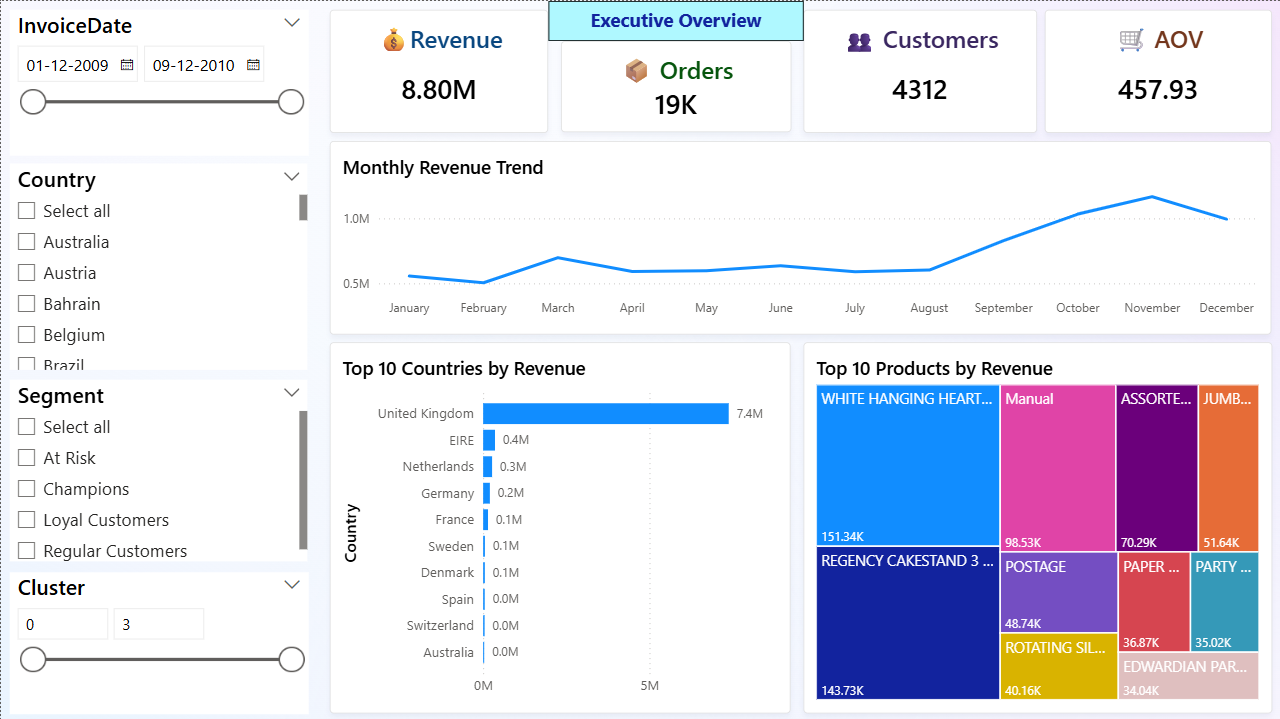

Layout of this report page (visuals, bound fields, positions):
{"tool":"powerbi","page":{"name":"Executive Overview","canvas":[1280,720],"ordinal":0},"visuals":[{"type":"lineChart","title":"Monthly Revenue Trend","fields":{"Category":["cleaned_online_retail.InvoiceDate.Variation.Date Hierarchy.Year","cleaned_online_retail.InvoiceDate.Variation.Date Hierarchy.Quarter","cleaned_online_retail.InvoiceDate.Variation.Date Hierarchy.Month","cleaned_online_retail.InvoiceDate.Variation.Date Hierarchy.Day"],"Y":["Sum(cleaned_online_retail.Revenue)"]},"box":[329.2,139.6,941.7,193.8],"z":0},{"type":"card","title":"💰Revenue","fields":{"Values":["cleaned_online_retail.Total Revenue"]},"box":[329.2,8.3,218.8,122.9],"z":1000},{"type":"card","title":"📦 Orders","fields":{"Values":["cleaned_online_retail.Total Orders"]},"box":[560,40,230,91.2],"z":2000},{"type":"card","title":"👥 Customers","fields":{"Values":["cleaned_online_retail.Total Customers"]},"box":[802.1,8.3,233.3,122.9],"z":3000},{"type":"card","title":"🛒 AOV","fields":{"Values":["cleaned_online_retail.Average Order Value"]},"box":[1043.8,8.3,227.1,122.9],"z":4000},{"type":"clusteredBarChart","title":"Top 10 Countries by Revenue","fields":{"Category":["cleaned_online_retail.Country"],"Y":["Sum(cleaned_online_retail.Revenue)"]},"box":[329.2,341.7,460.4,370.8],"z":5000},{"type":"treemap","title":"Top 10 Products by Revenue","fields":{"Group":["cleaned_online_retail.Description"],"Values":["Sum(cleaned_online_retail.Revenue)"]},"box":[802.1,341.7,468.8,370.8],"z":6000},{"type":"slicer","fields":{"Values":["cleaned_online_retail.InvoiceDate"]},"box":[8.1,8.1,298.1,145.6],"z":7000},{"type":"slicer","fields":{"Values":["cleaned_online_retail.Country"]},"box":[8.3,162.5,297.9,206.2],"z":8000},{"type":"slicer","fields":{"Values":["customer_segments.Segment"]},"box":[8.3,379.2,297.9,181.2],"z":9000},{"type":"slicer","fields":{"Values":["customer_segments.Cluster"]},"box":[8.1,570.6,298.1,141.9],"z":10000},{"type":"textbox","box":[547.5,0,255,40],"z":11000}]}

Visuals, with their boxes in screenshot pixels (x1, y1, x2, y2), scaled from the page's 1280x720 canvas onto the 1280x719 screenshot:
"Monthly Revenue Trend" lineChart: left=329, top=139, right=1271, bottom=333
"💰Revenue" card: left=329, top=8, right=548, bottom=131
"📦 Orders" card: left=560, top=40, right=790, bottom=131
"👥 Customers" card: left=802, top=8, right=1035, bottom=131
"🛒 AOV" card: left=1044, top=8, right=1271, bottom=131
"Top 10 Countries by Revenue" clusteredBarChart: left=329, top=341, right=790, bottom=712
"Top 10 Products by Revenue" treemap: left=802, top=341, right=1271, bottom=712
slicer - cleaned_online_retail.InvoiceDate: left=8, top=8, right=306, bottom=153
slicer - cleaned_online_retail.Country: left=8, top=162, right=306, bottom=368
slicer - customer_segments.Segment: left=8, top=379, right=306, bottom=560
slicer - customer_segments.Cluster: left=8, top=570, right=306, bottom=712
textbox: left=548, top=0, right=802, bottom=40
